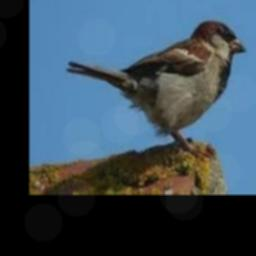Sparrow: (66, 20, 246, 159)
